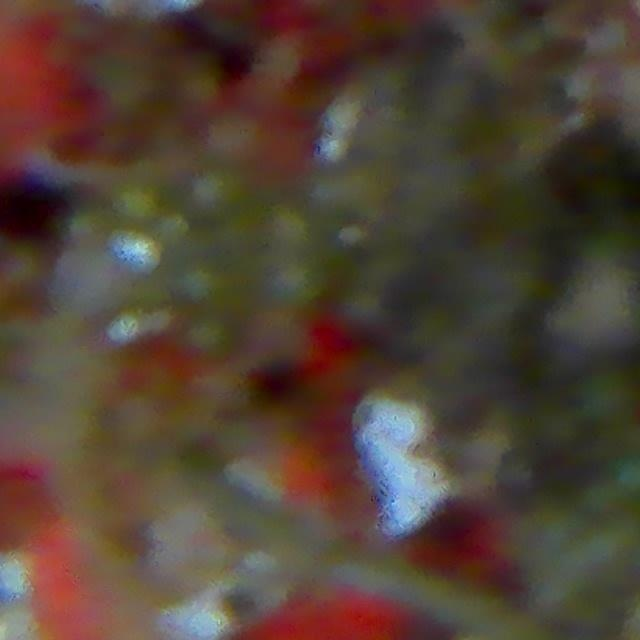SeaGrape: (246, 307, 317, 375), (575, 367, 640, 430)
